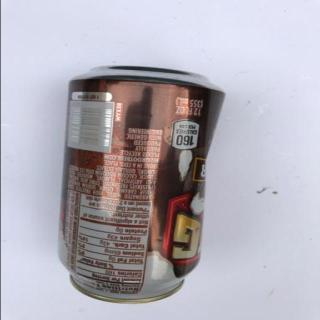Anorganik: (56, 58, 234, 305)
